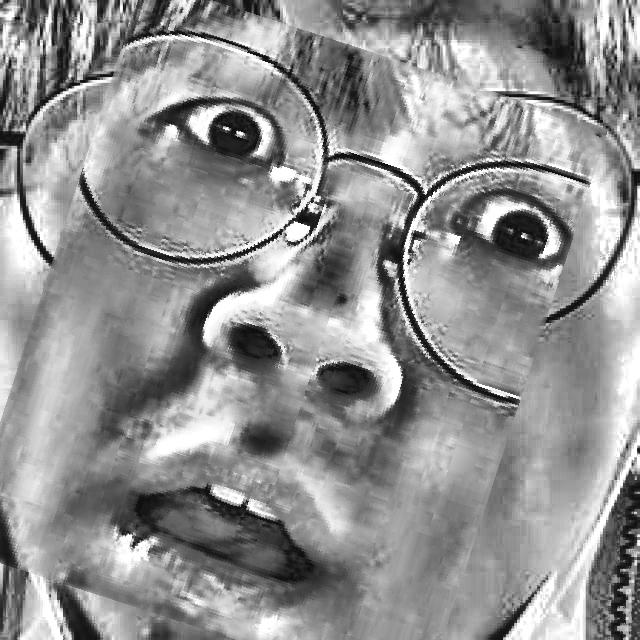fear: (0, 7, 567, 640)
